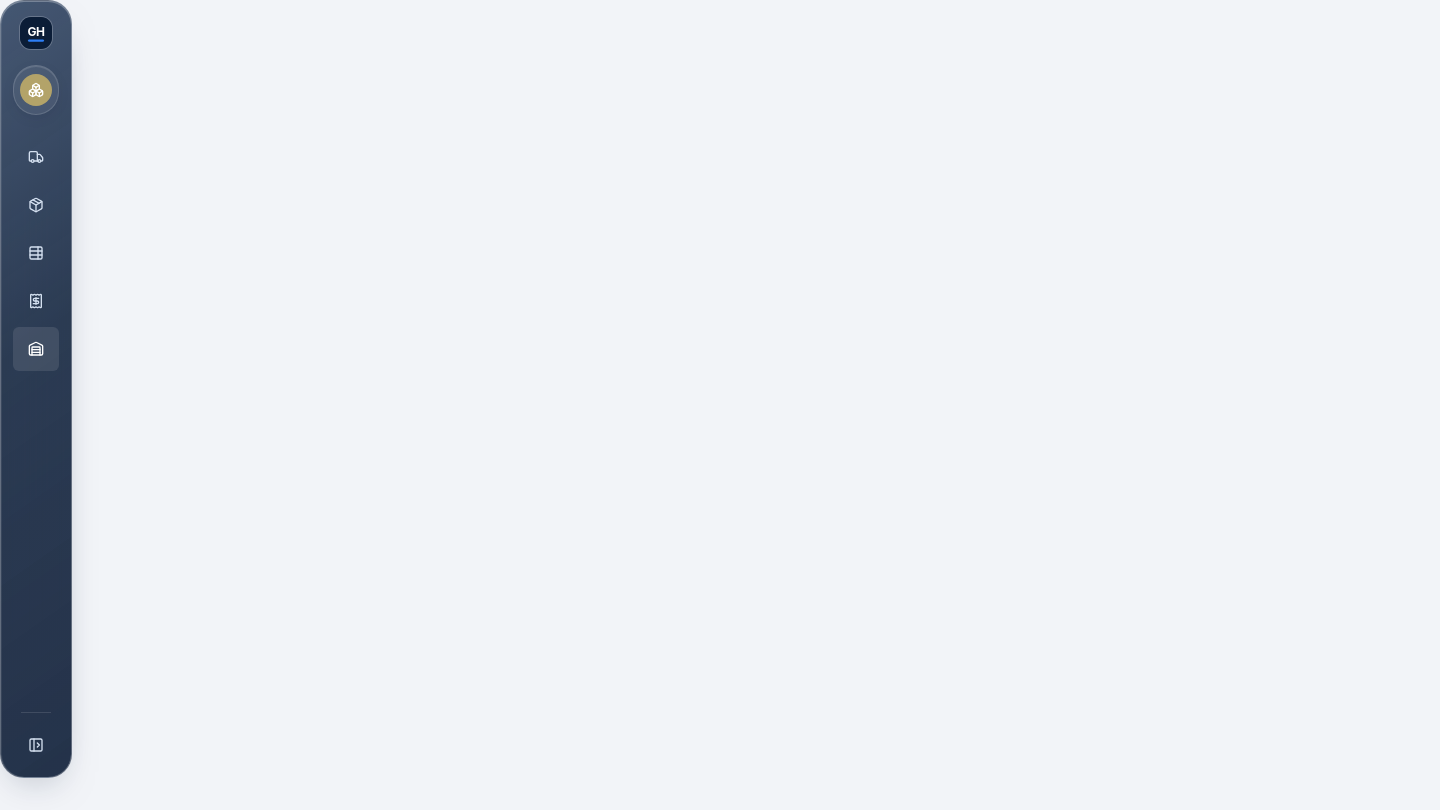
Test case: abre o submenu em portal, conserva a rota ativa e devolve o foco com Escape
Click the button named "Abrir Estoque" at (36, 349), box [13, 327, 59, 371]
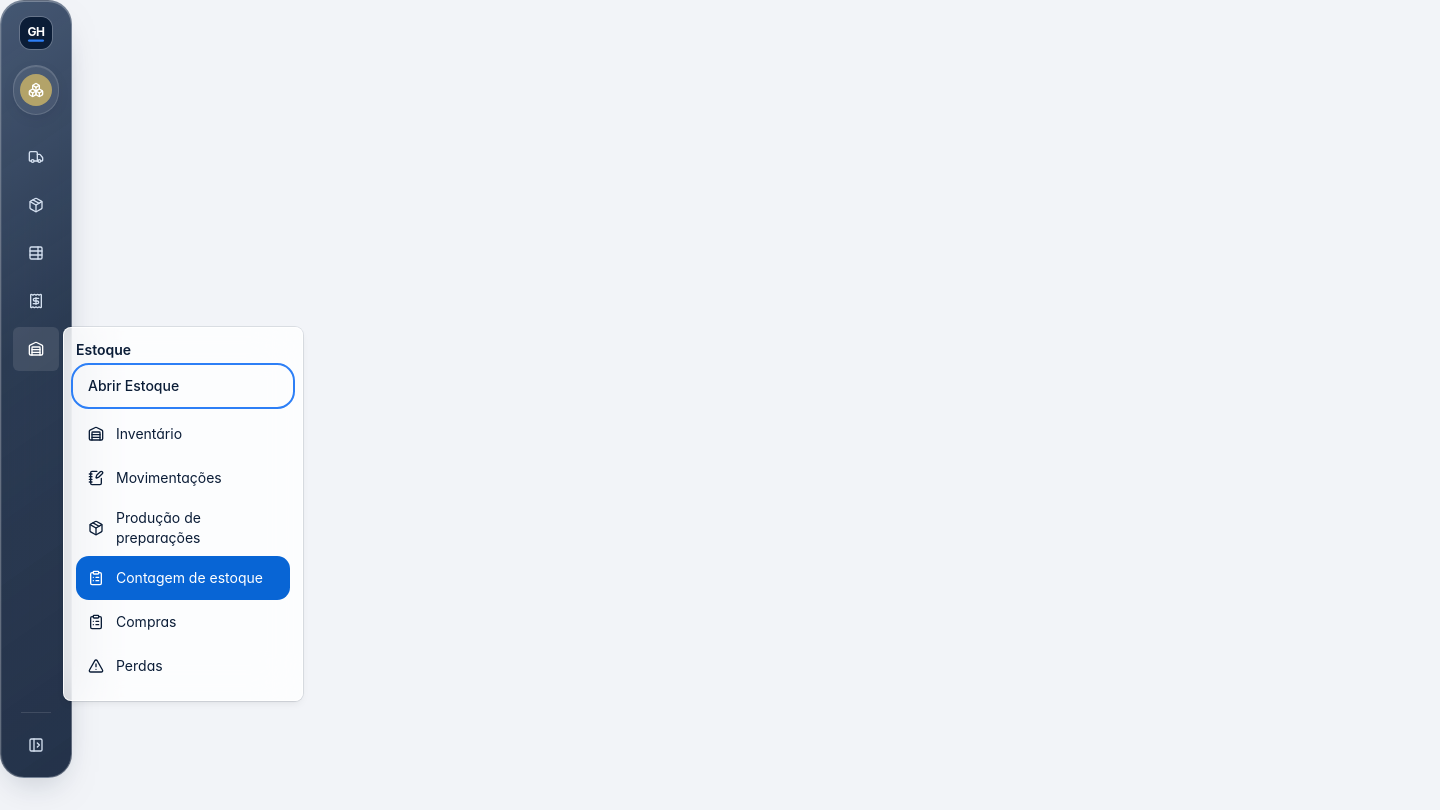
Press Escape
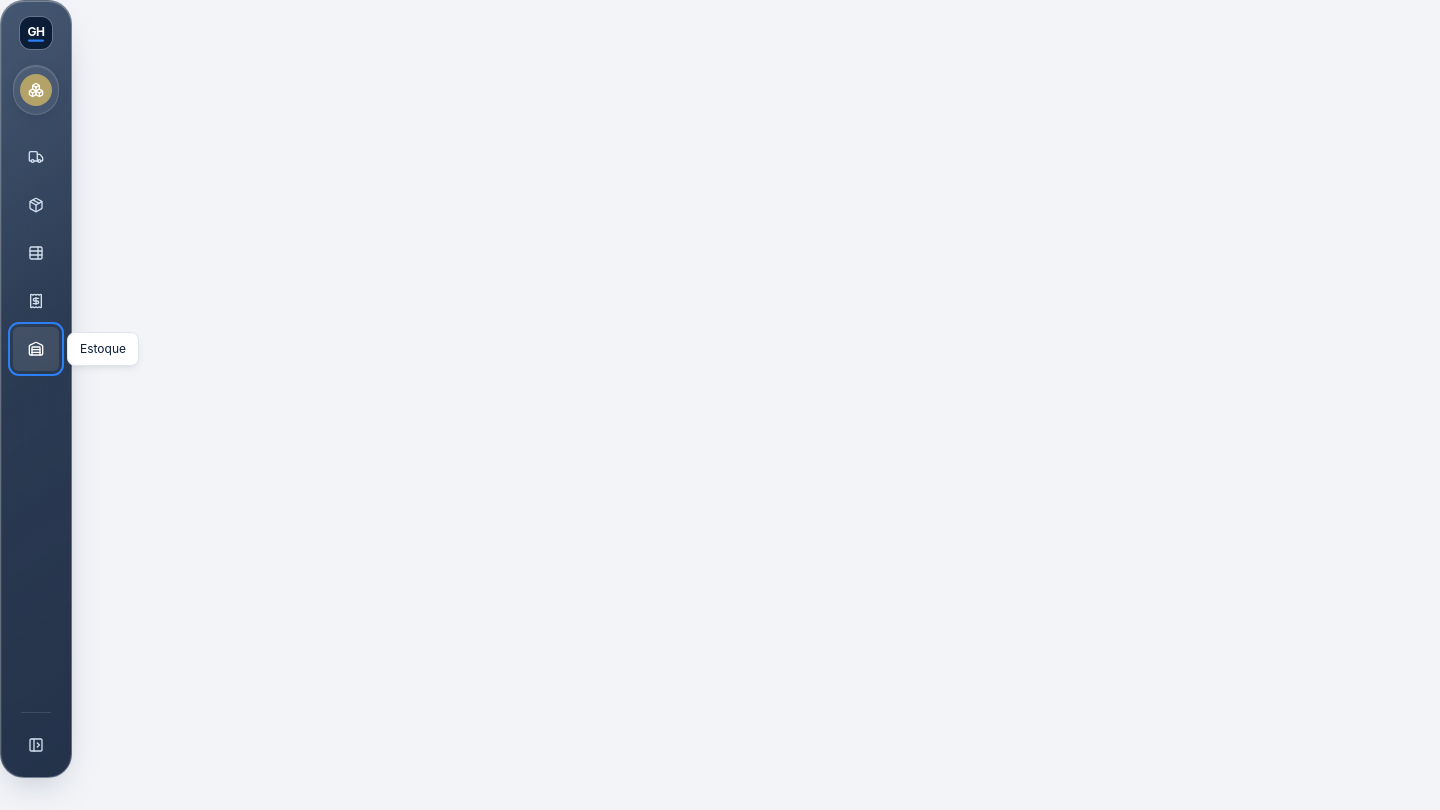
Expected: the link "Compras" is gone
